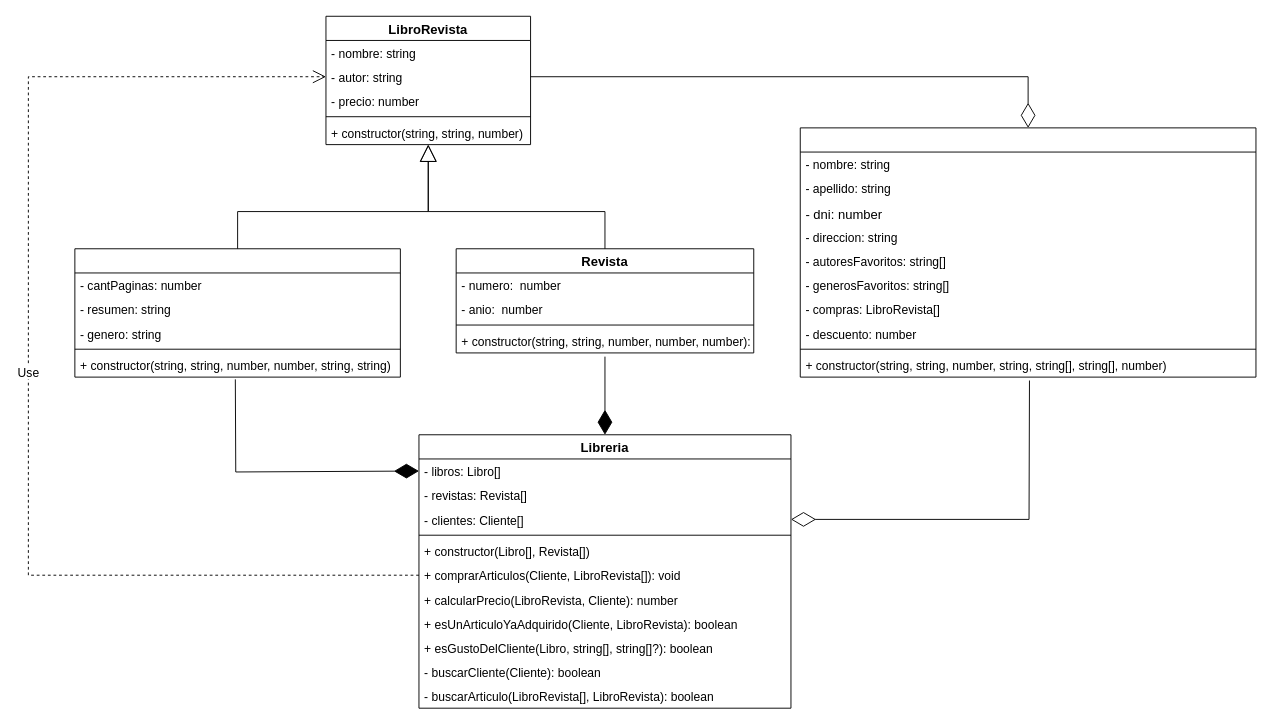
This 1272x727 diagram has some shape labels left out. Each missing label, with the box of its shape:
Cliente: (799, 127, 1256, 377)
Libro: (74, 248, 400, 377)
